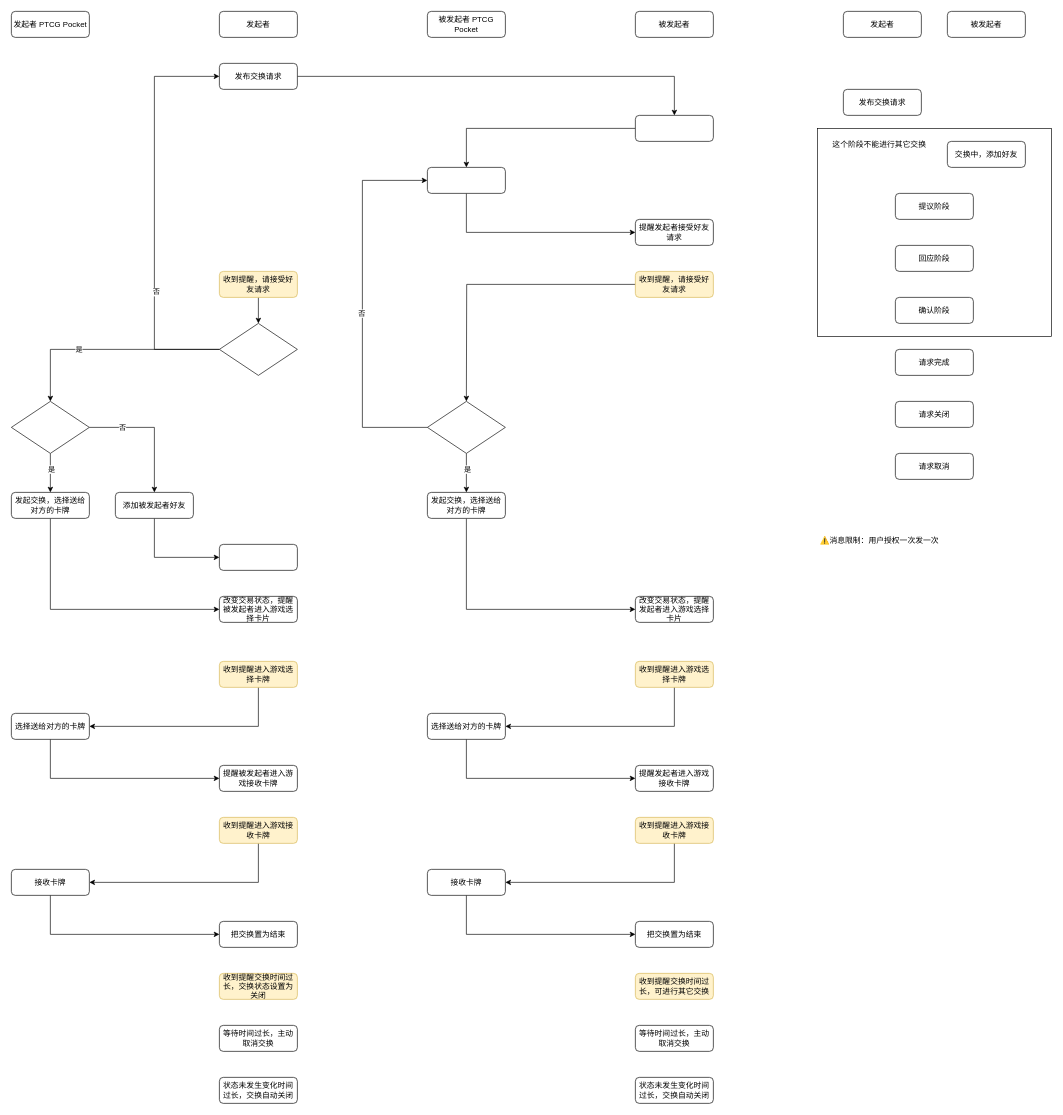
Image size: 1063x1115. Some labels were removed from this diagram. Here are the shapes that lost their labels. From the top down, the box of each, then its label:
(635, 115, 713, 141): 接受请求
(427, 167, 505, 193): 添加发起者好友
(219, 323, 297, 375): 确认此次交换成立
(11, 401, 89, 453): 真的收到好友请求
(427, 401, 505, 453): 收到好友请求
(219, 544, 297, 570): 提醒被发起者接受好友请求
